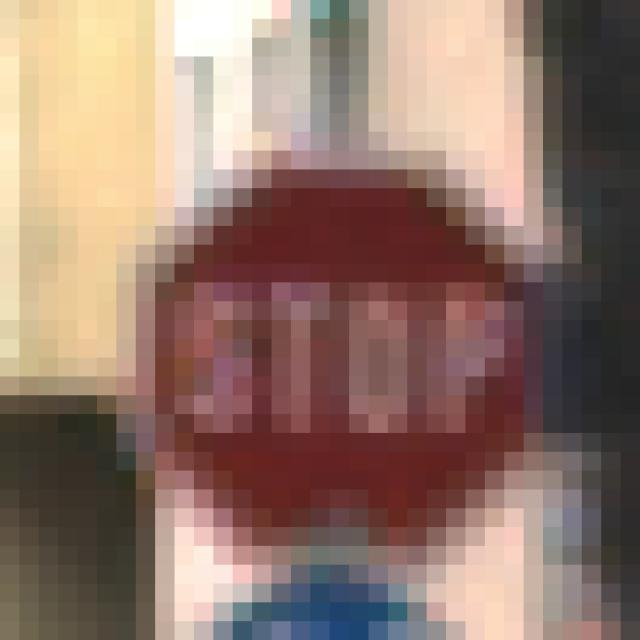STOP: (117, 114, 544, 547)
